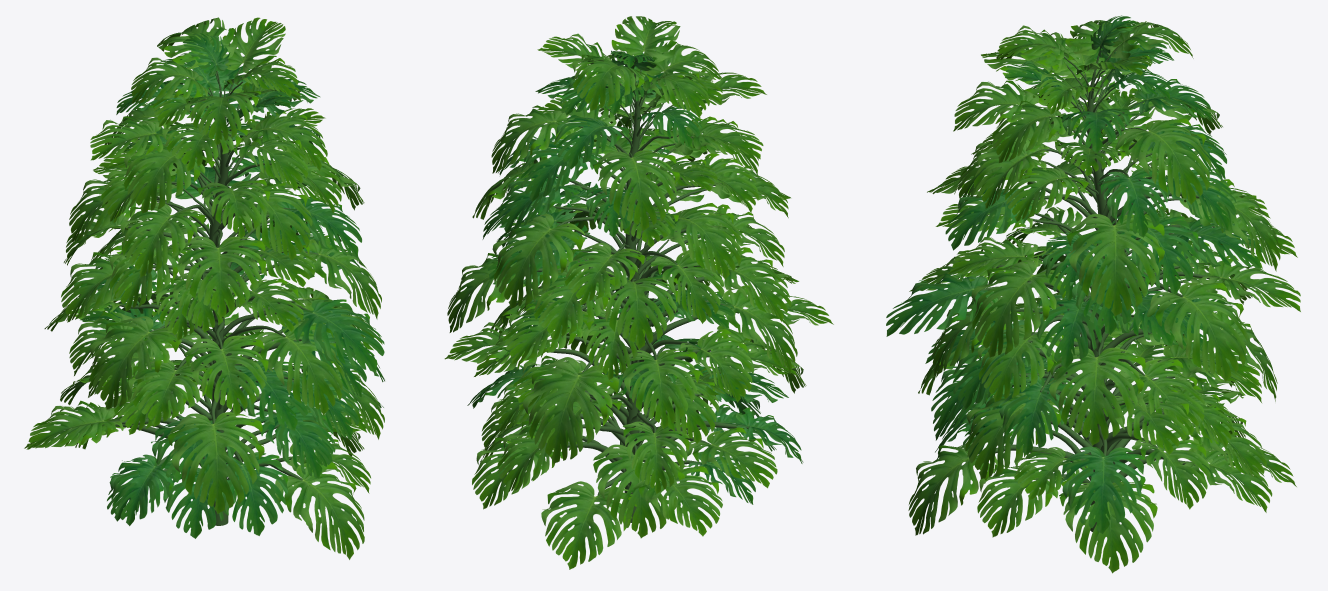
File: Plant_Monstera_Lush_01.glb
3 renders of one model, left to right at view 1: azimuth 30°, elevation 25°; view 2: azimuth 150°, elevation 25°; view 3: azimuth 270°, elevation 25°, orthographic. The views are drawn at different scales.
Visible parts, largest first — view 1: Monsterra_Deliciosa_v01; view 2: Monsterra_Deliciosa_v01; view 3: Monsterra_Deliciosa_v01.
Boxes of the visible parts, box(x1,y1,x2,y2) form: Monsterra_Deliciosa_v01: box(24, 17, 384, 559); Monsterra_Deliciosa_v01: box(444, 16, 833, 569); Monsterra_Deliciosa_v01: box(886, 15, 1300, 573).
Bounding box in the file's own units: 16.18 × 21.17 × 16.75.
3 materials, 2 textured.
